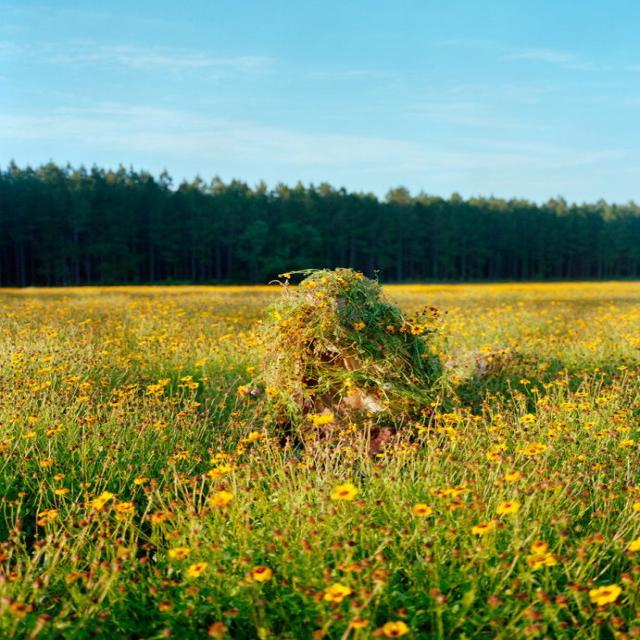Camouflage: (239, 270, 463, 447)
